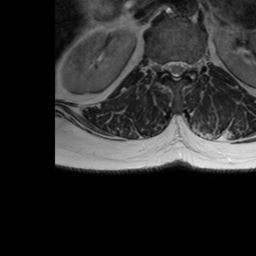CCS_normal: (173, 54, 180, 86)
LFS_stenosis: (188, 57, 194, 77)
LLS_normal: (180, 55, 187, 79)
RFS_normal: (159, 55, 166, 79)
RLS_normal: (166, 55, 173, 80)
